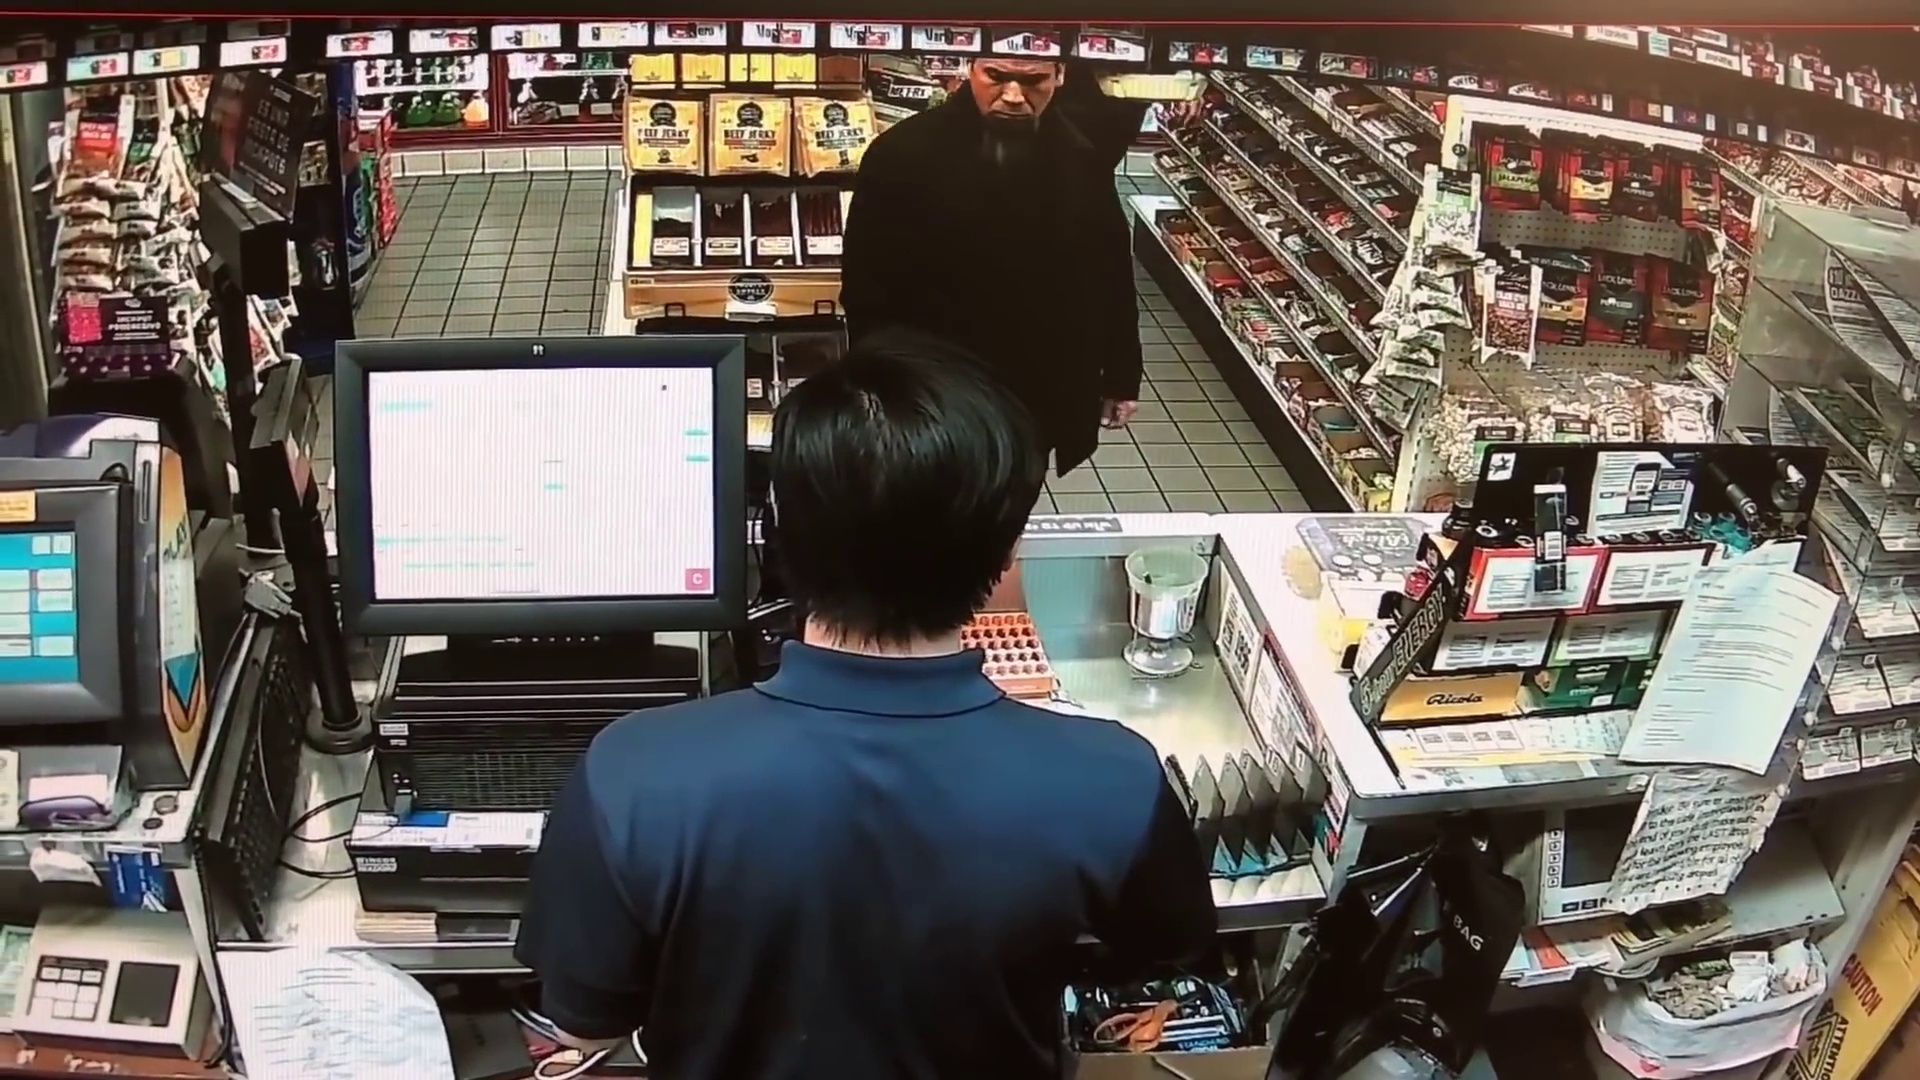face: (974, 56, 1053, 144)
